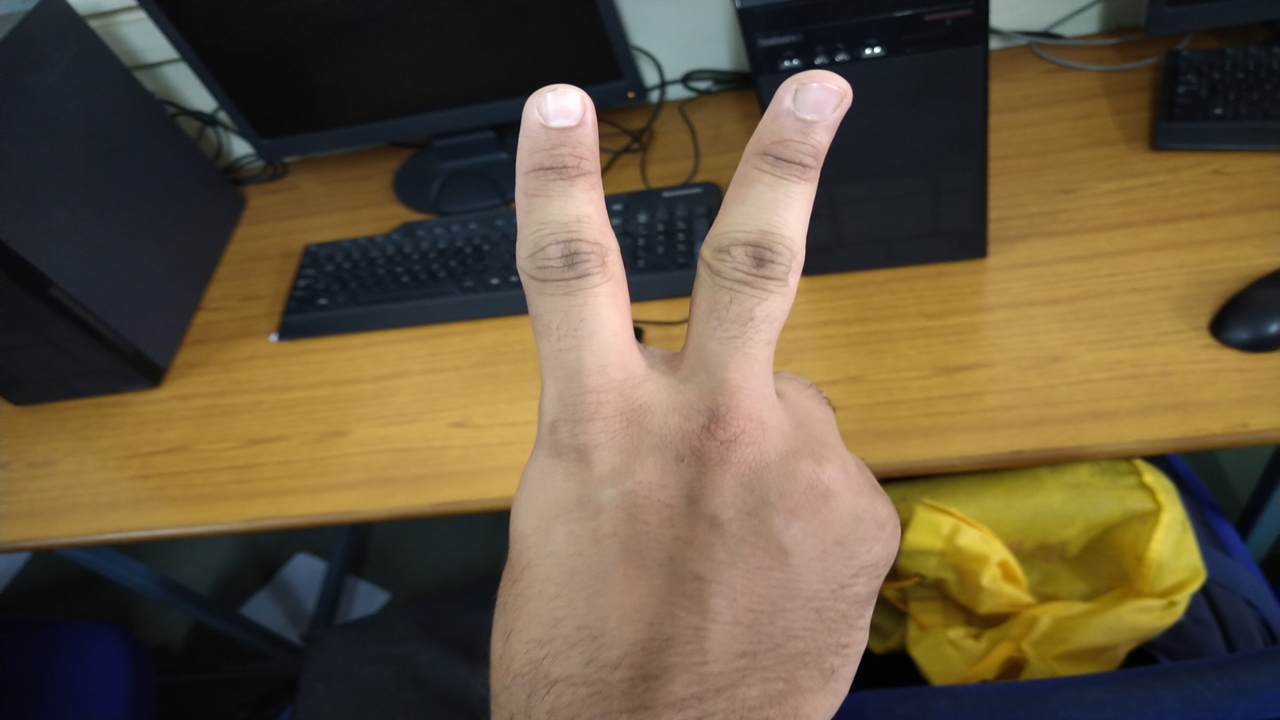fingertip: (774, 62, 862, 134), (514, 76, 598, 146)
